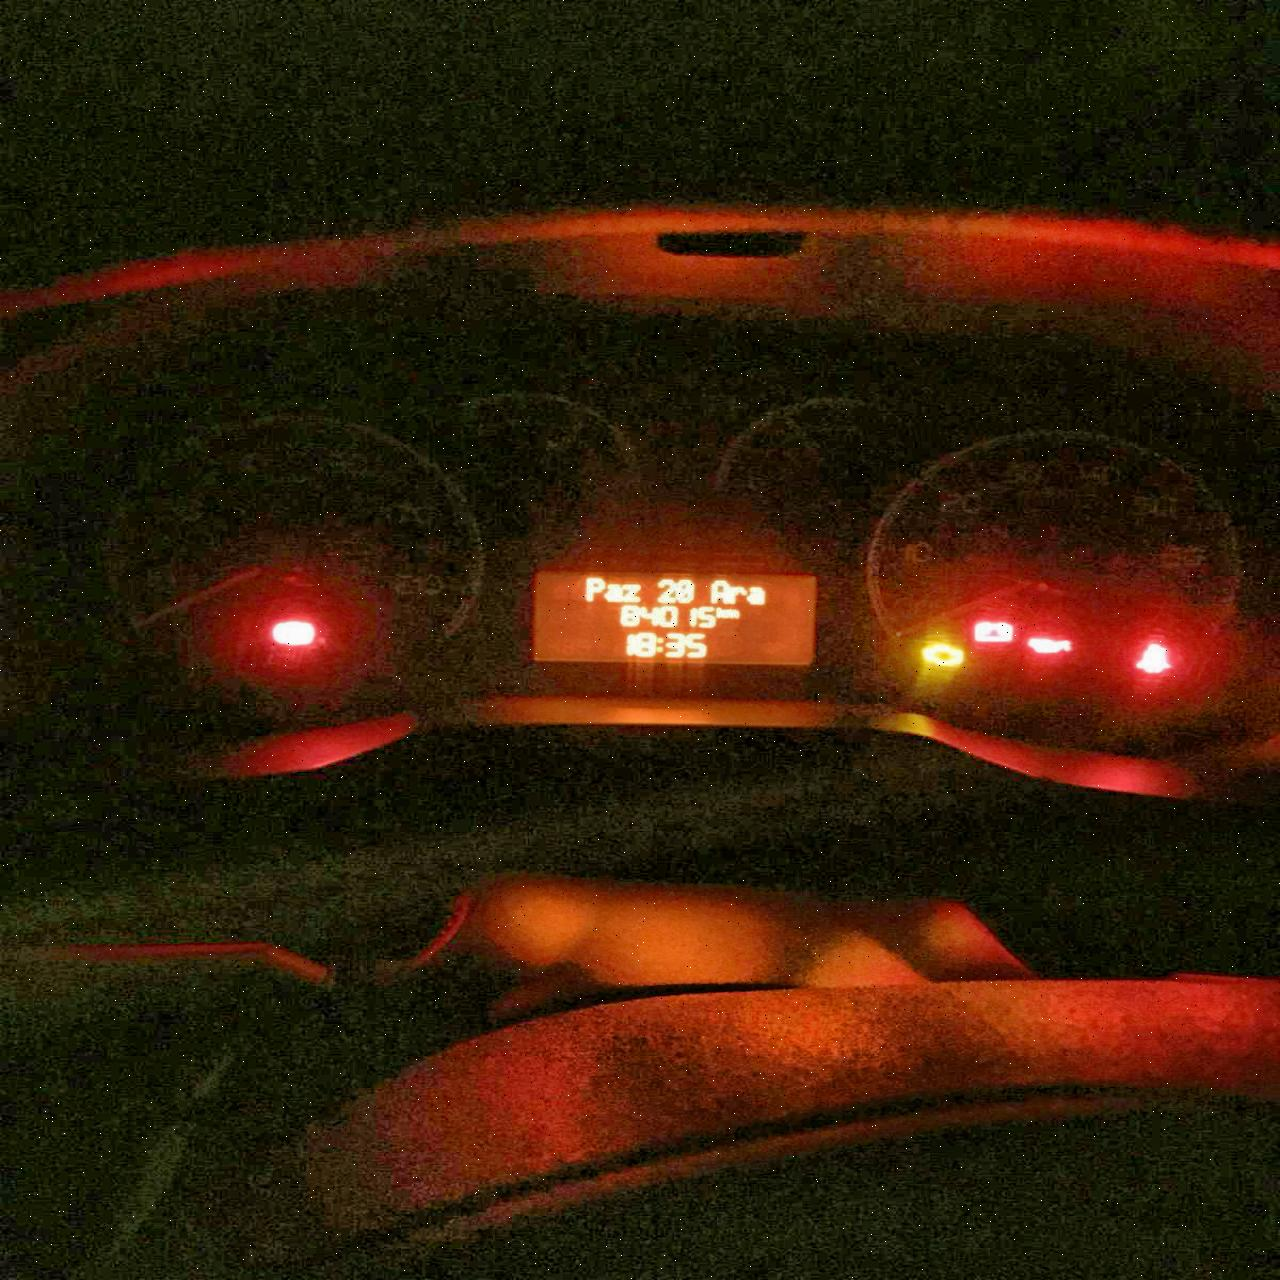0: (675, 579, 696, 602), (659, 605, 679, 629)
1: (625, 631, 634, 660), (688, 606, 696, 629)
2: (655, 578, 676, 605)
3: (665, 628, 683, 659)
4: (640, 605, 658, 627)
5: (685, 632, 707, 661), (696, 604, 715, 629)
8: (635, 629, 655, 659), (619, 602, 641, 628)
X: (584, 573, 605, 602), (621, 581, 642, 604), (710, 579, 729, 604), (605, 581, 622, 605), (747, 585, 765, 606), (729, 584, 747, 604), (728, 606, 741, 620), (655, 635, 663, 654), (716, 606, 727, 620)
odometer: (526, 568, 821, 668)
